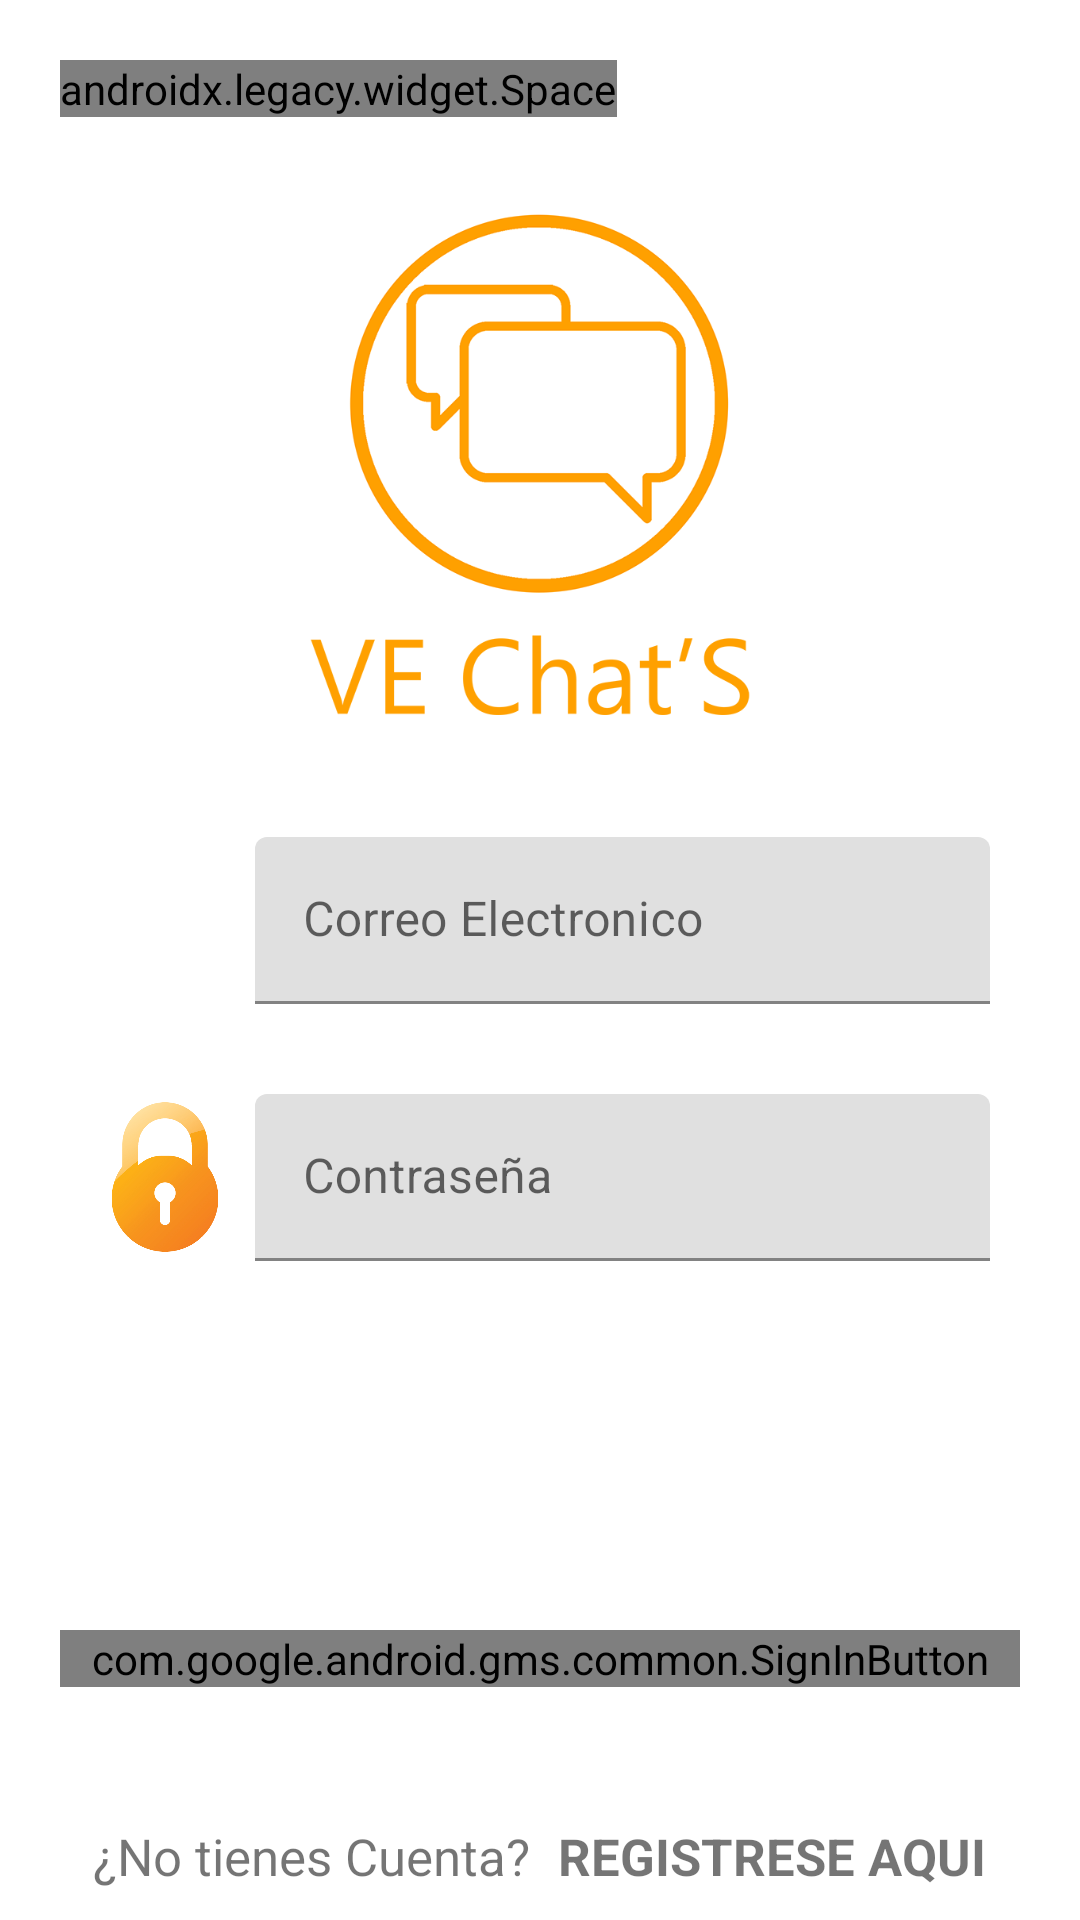

Where icons sit on this 1080*1920 app screen, as (x1, y1, x2, y2):
password: (112, 1102, 218, 1252)
